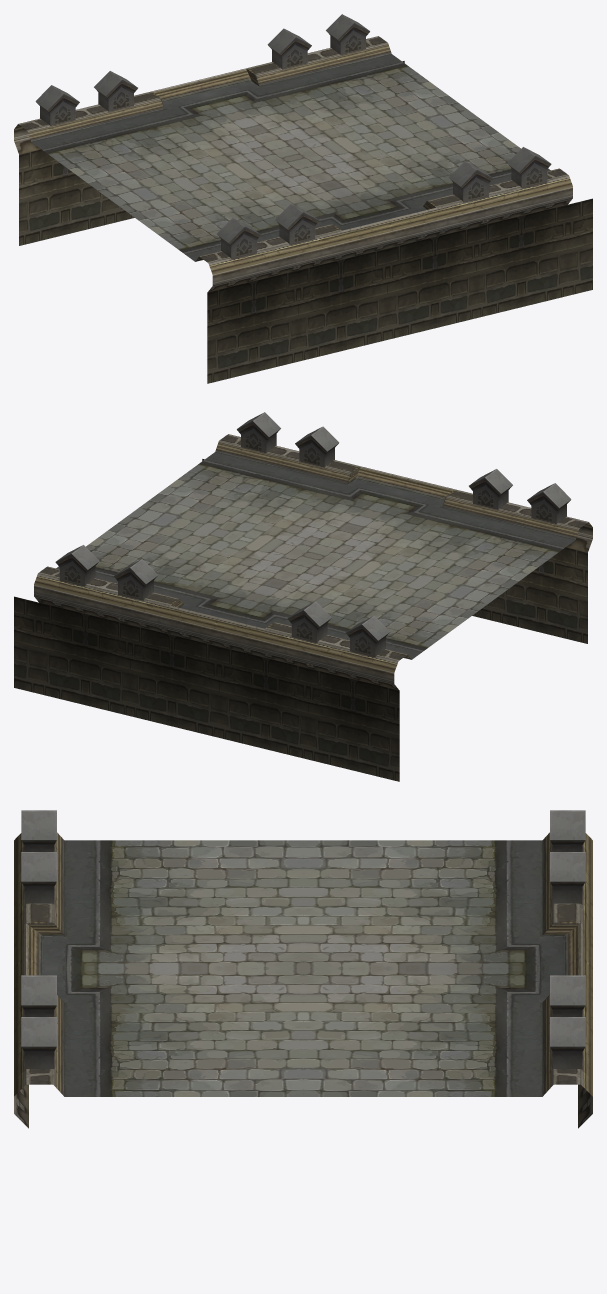
Rendered from new_sh_bridgeout_b1.FBX.
3 renders of one model, top to bottom at view 1: azimuth 30°, elevation 25°; view 2: azimuth 150°, elevation 25°; view 3: azimuth 270°, elevation 25°, orthographic. The views are drawn at different scales.
Visible parts, largest first — view 1: new_sh_bridgeout_b1; view 2: new_sh_bridgeout_b1; view 3: new_sh_bridgeout_b1.
Boxes of the visible parts, <box> form: new_sh_bridgeout_b1: <box>14,14,592,383</box>; new_sh_bridgeout_b1: <box>14,412,592,781</box>; new_sh_bridgeout_b1: <box>14,810,592,1128</box>.
Size of the model in its own units: 1376 by 514 by 1227.
Materials: 1 (1 with a texture image).
